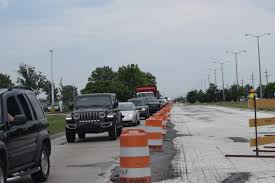barrel: (119, 130, 149, 183), (145, 119, 165, 150)
